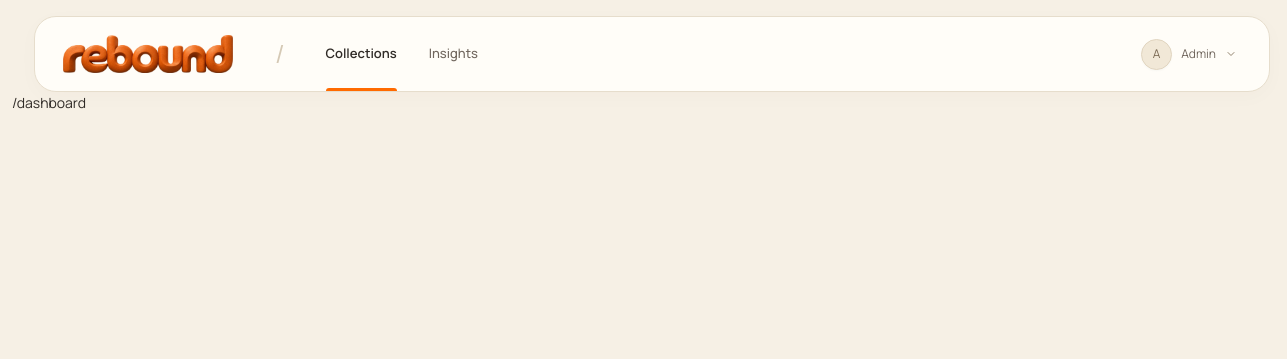
Test case: administrator retains admin access and sign out clears the existing auth session
Click the button "A Admin".
click(1189, 54)  # box [1137,34,1241,74]
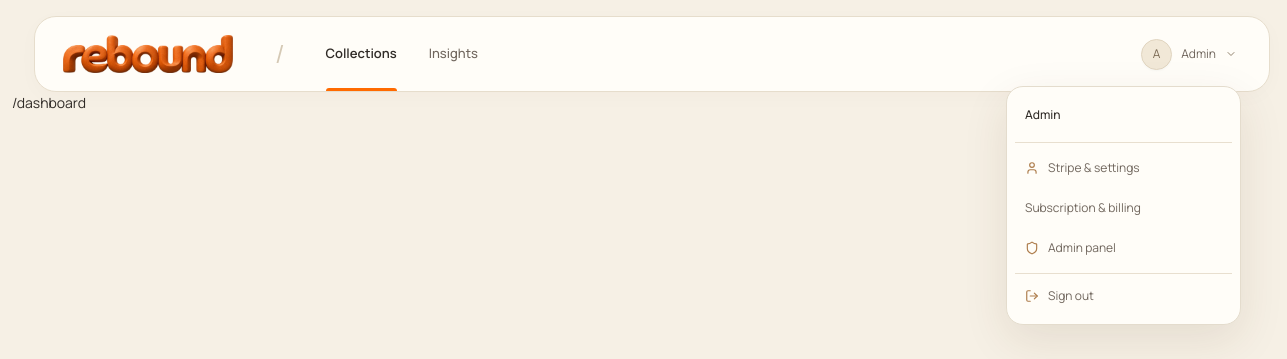
Click the button "Admin panel".
click(1124, 248)  # box [1015,228,1232,268]
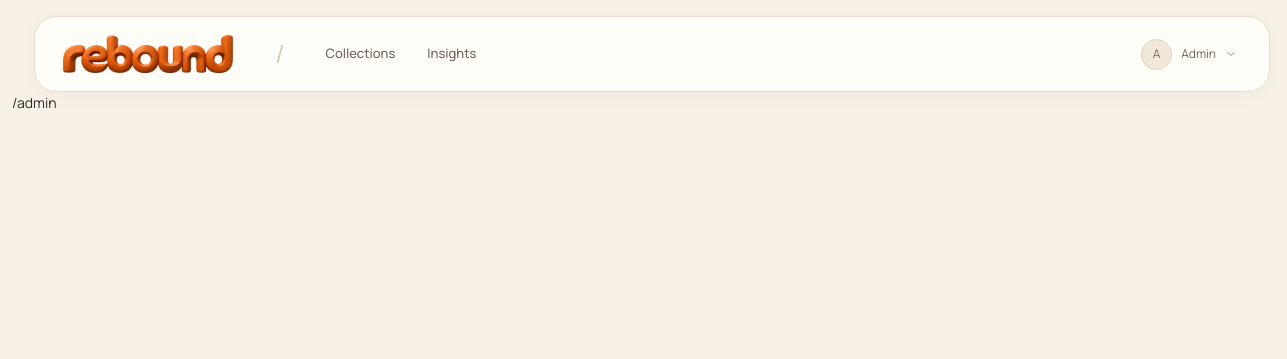
Expected: the text "/admin" is shown, [12,93,56,112]
Click the button "A Admin".
click(1189, 54)  # box [1137,34,1241,74]
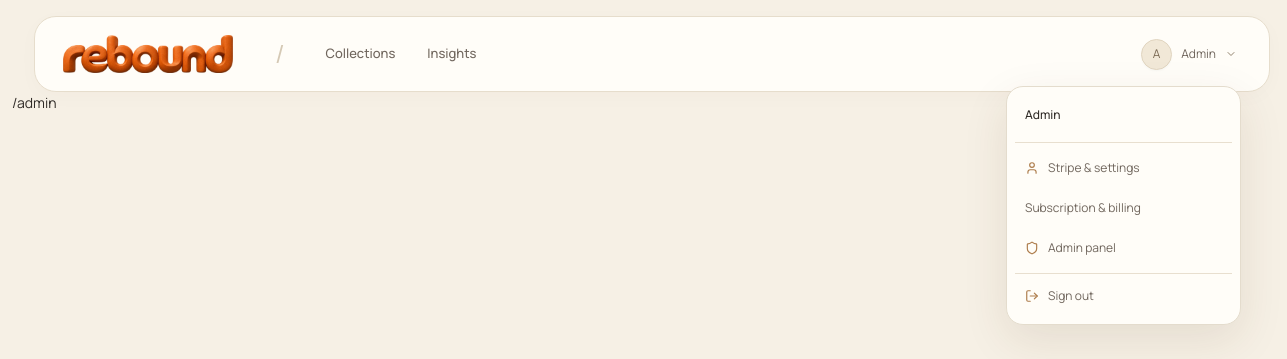
Click the button "Sign out".
click(1124, 294)  # box [1015,272,1232,316]
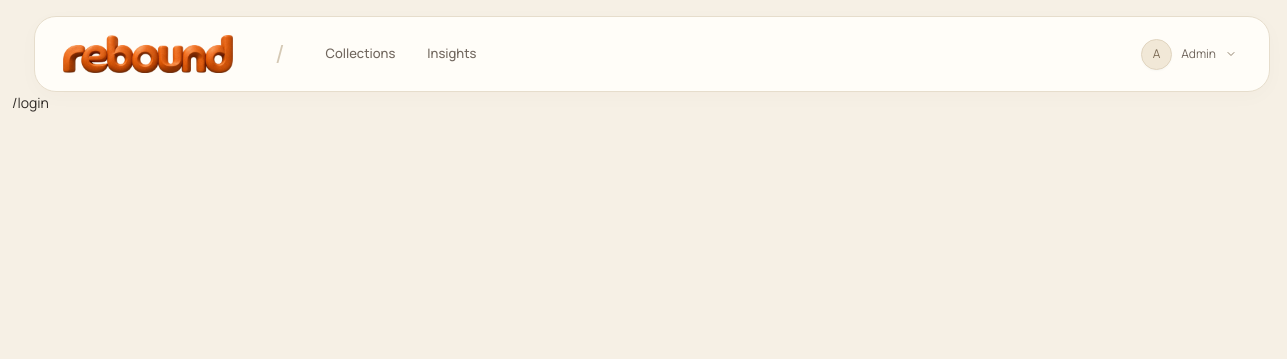
Expected: the text "/login" is shown, [12,93,49,112]
